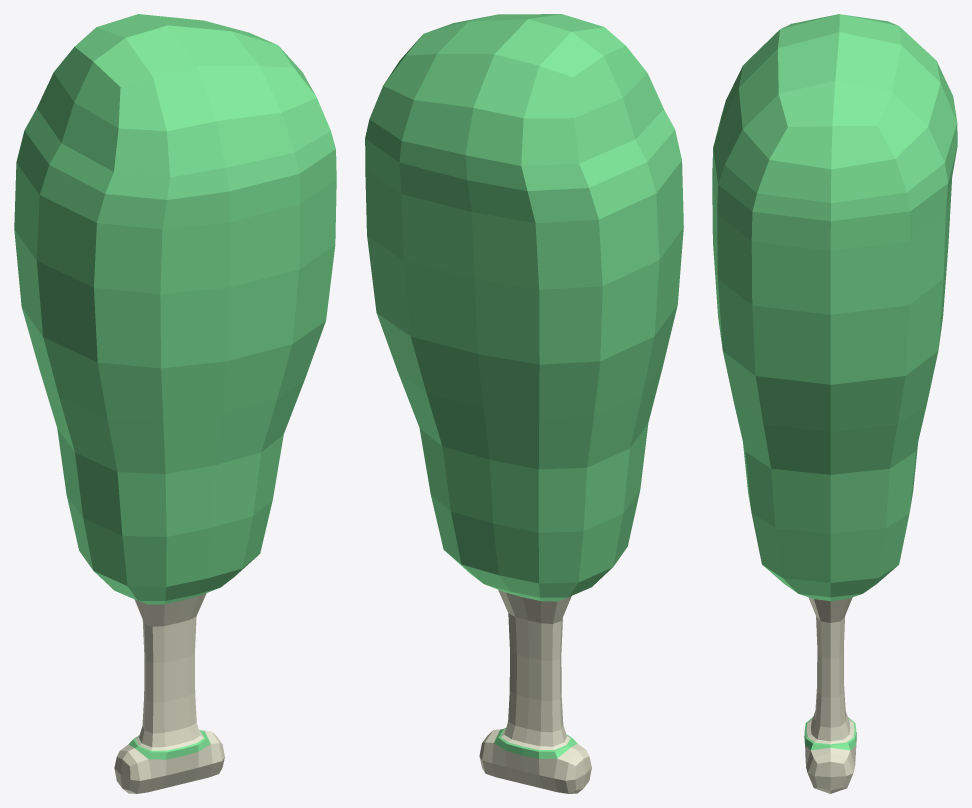
File: mintyfowlleg.fbx
3 renders of one model, left to right at view 1: azimuth 30°, elevation 25°; view 2: azimuth 150°, elevation 25°; view 3: azimuth 270°, elevation 25°, orthographic. The views are drawn at different scales.
Visible parts, largest first — view 1: Cube; view 2: Cube; view 3: Cube.
Boxes of the visible parts, x1,y1,x2,y2 form: Cube: (14,14,336,793); Cube: (365,14,683,793); Cube: (712,14,957,793).
Size of the model in its own units: 1191 by 3142 by 940.
